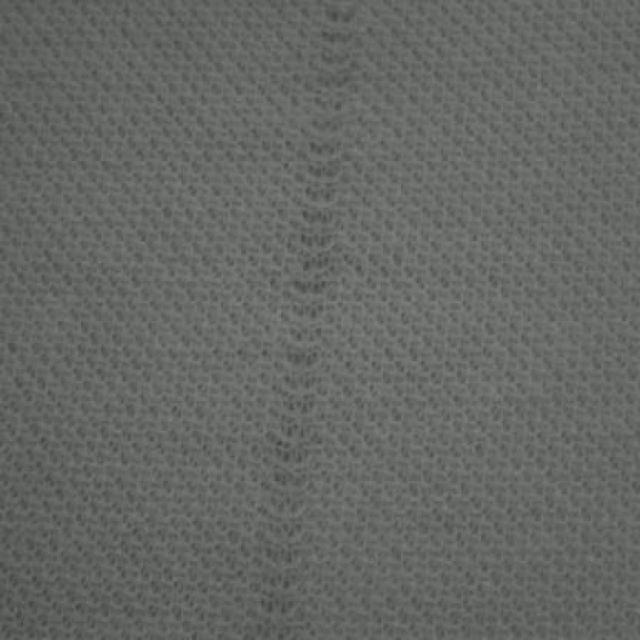Line: (250, 3, 360, 640)
